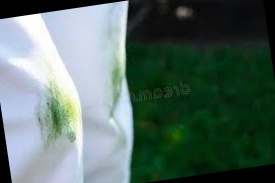earth: (40, 85, 82, 139), (106, 60, 129, 103)
